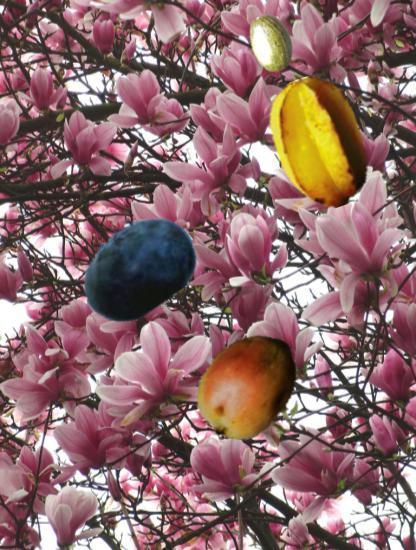Blueberry: (76, 206, 199, 329)
Carambula: (252, 76, 387, 211)
Melon: (241, 12, 302, 73)
Papaya: (190, 327, 307, 444)
